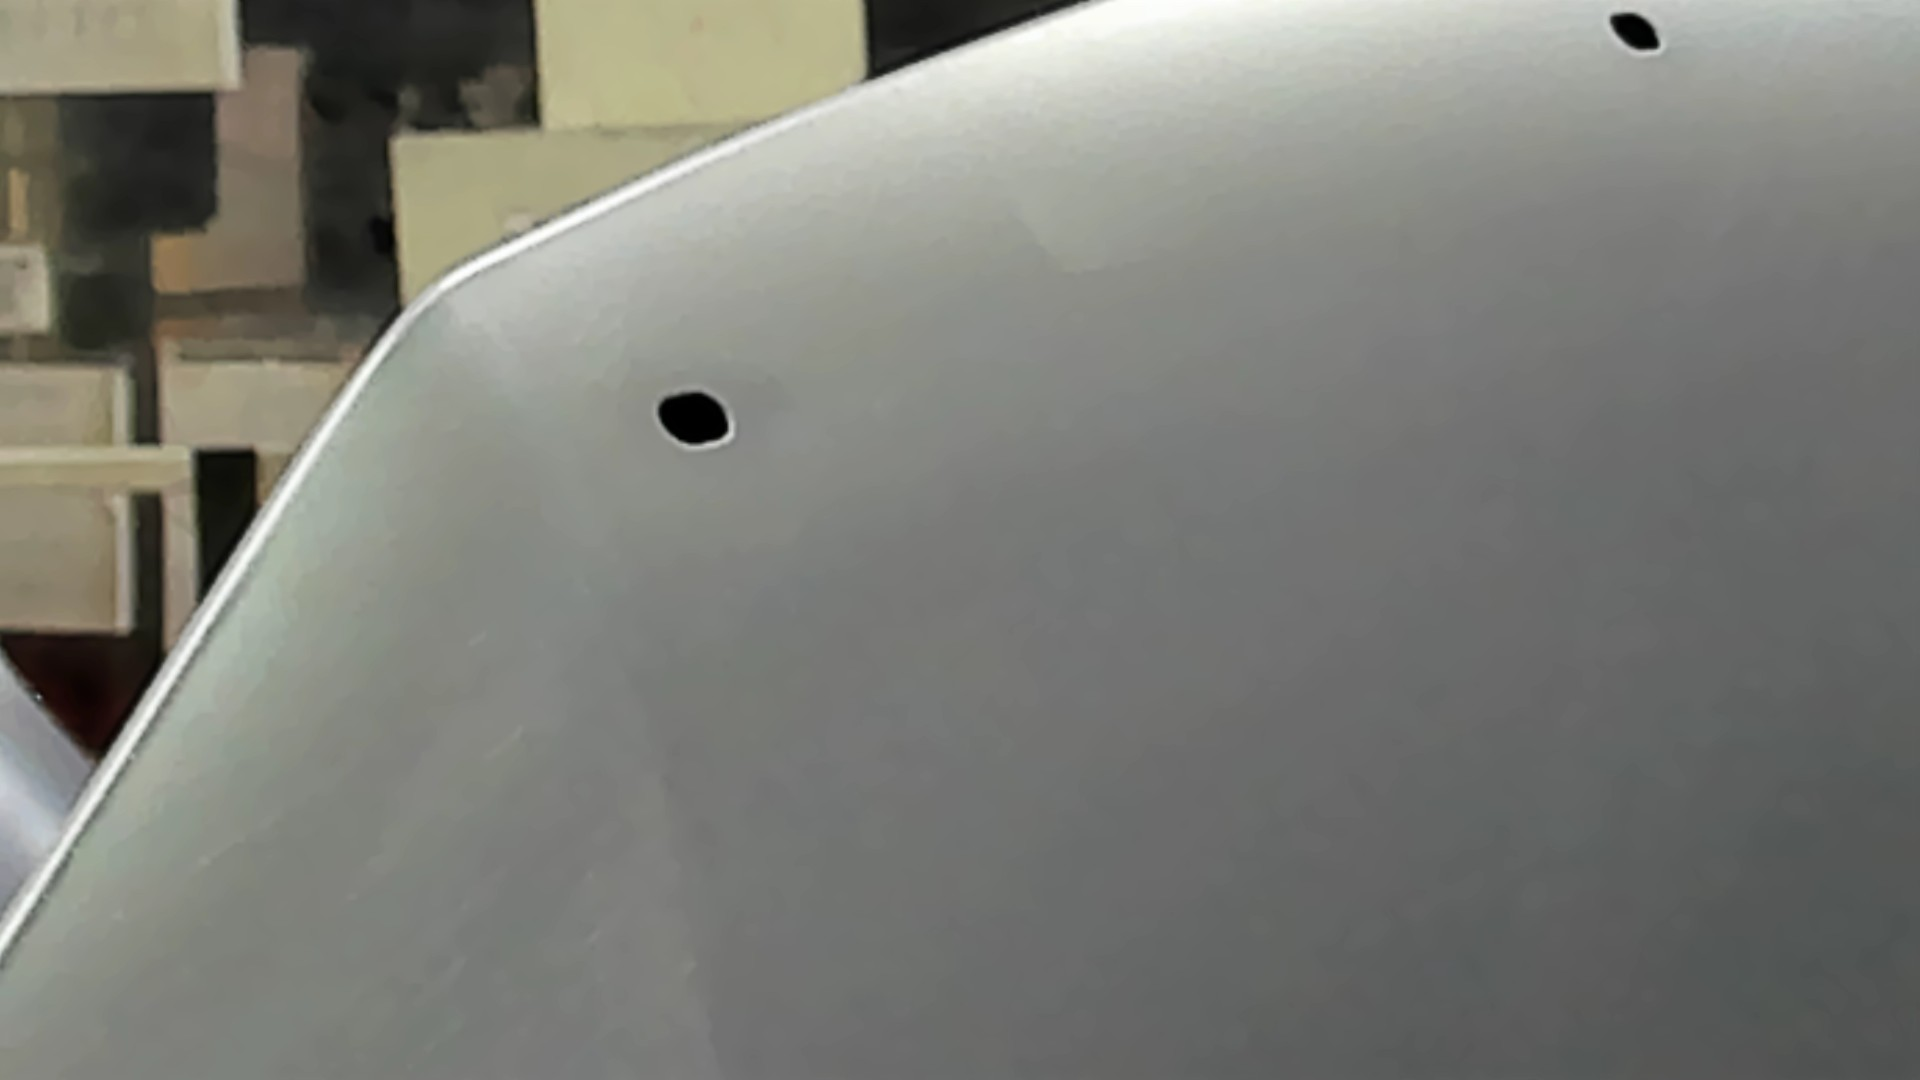amorfo: (651, 386, 736, 454), (1605, 9, 1669, 59)
capo: (899, 94, 1920, 1080)
